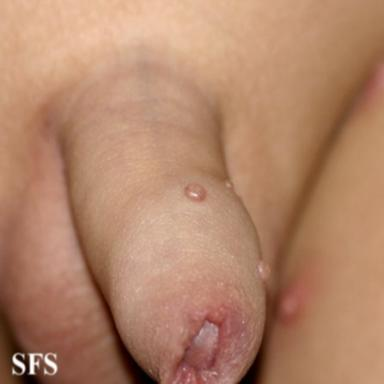Molluscum-Contagiosum: (278, 286, 304, 320), (185, 184, 206, 201), (257, 260, 271, 282), (225, 179, 234, 191)
